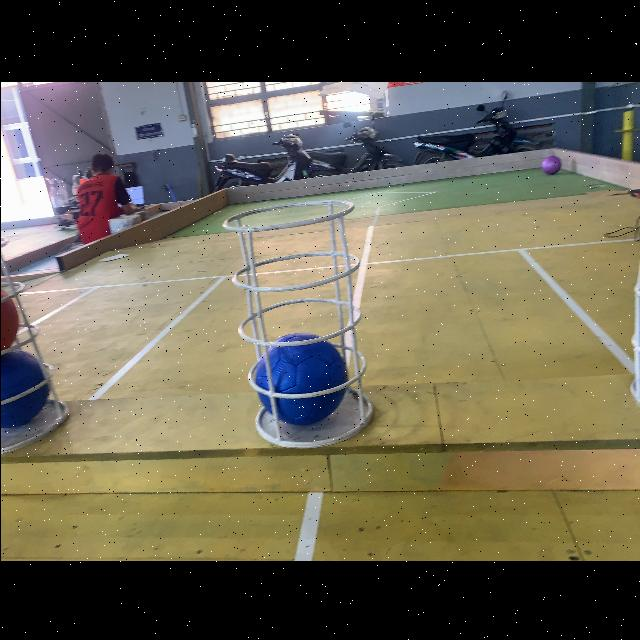B: (255, 332, 348, 426), (0, 351, 50, 427)
R: (1, 276, 16, 358)
